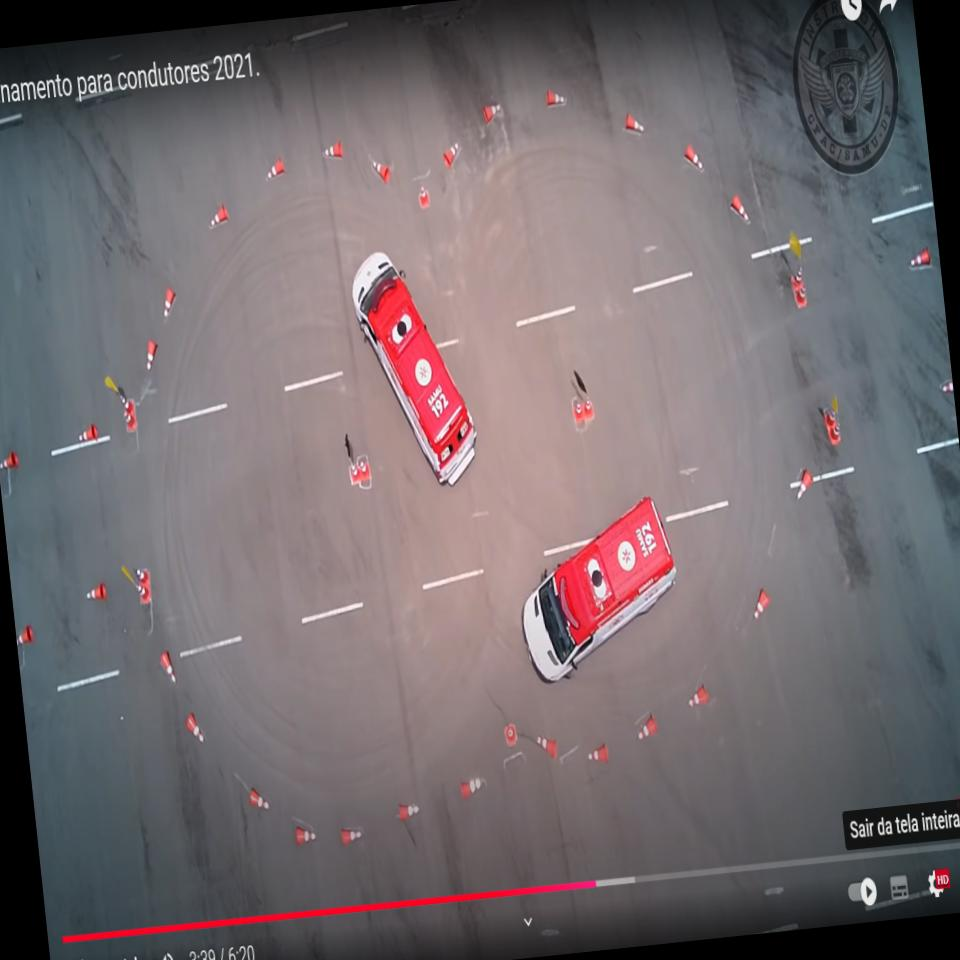bombeiro: (511, 488, 688, 690), (344, 242, 484, 497)
